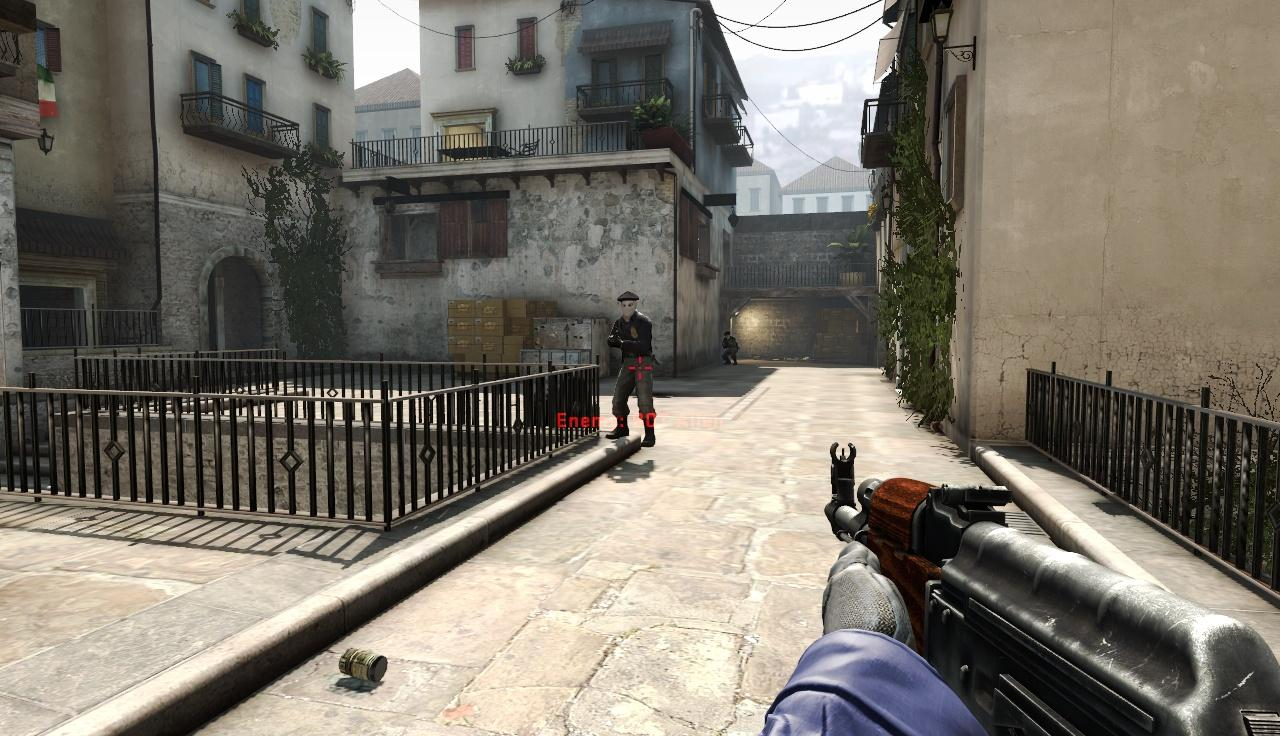rifle: (823, 438, 1280, 736)
tt: (614, 291, 653, 447), (722, 330, 737, 364)
tthead: (621, 291, 637, 316), (724, 331, 731, 339)
